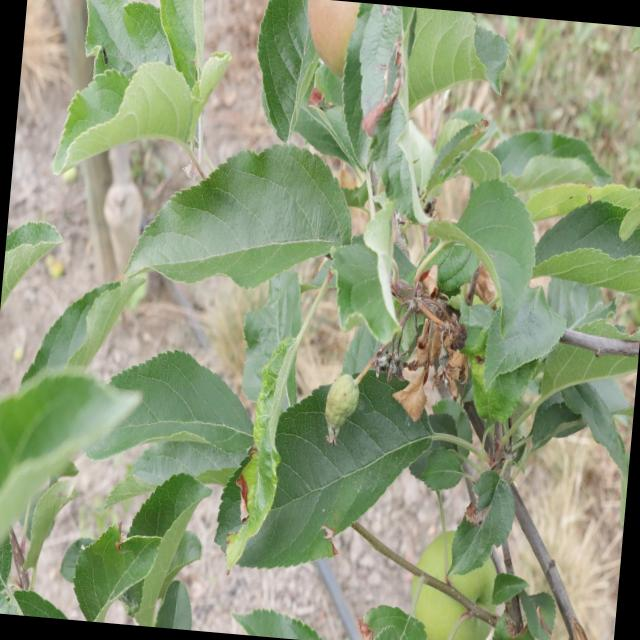-FireBlight-: (380, 277, 480, 425)
